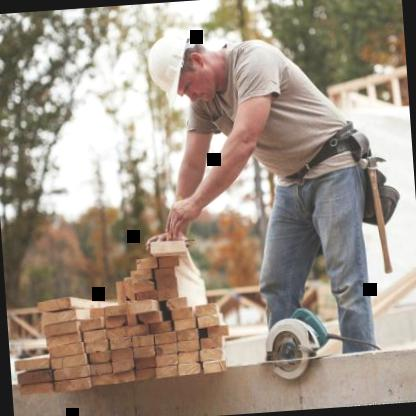helmet: (141, 27, 221, 115)
